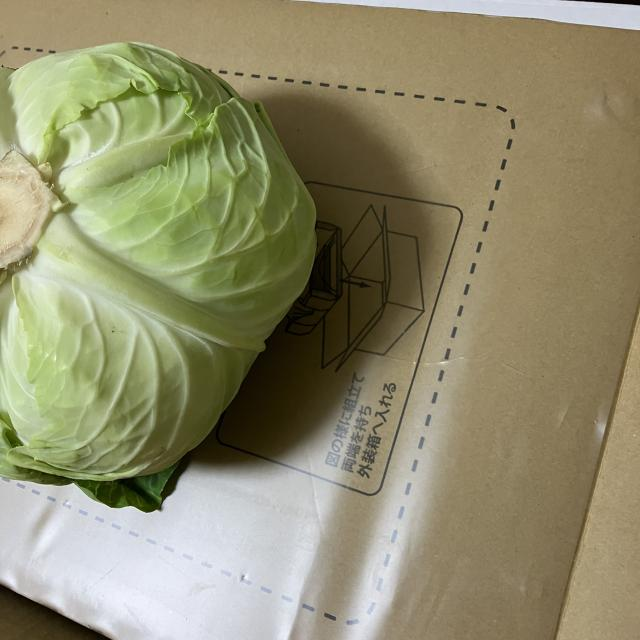cabbage: (0, 38, 323, 516)
